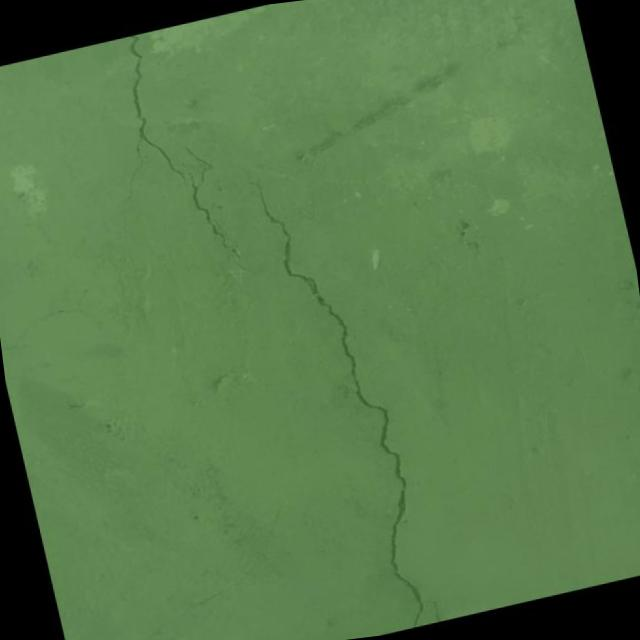crack: (242, 154, 444, 640), (91, 28, 190, 203), (178, 134, 260, 287), (0, 286, 98, 349), (108, 203, 138, 239)
